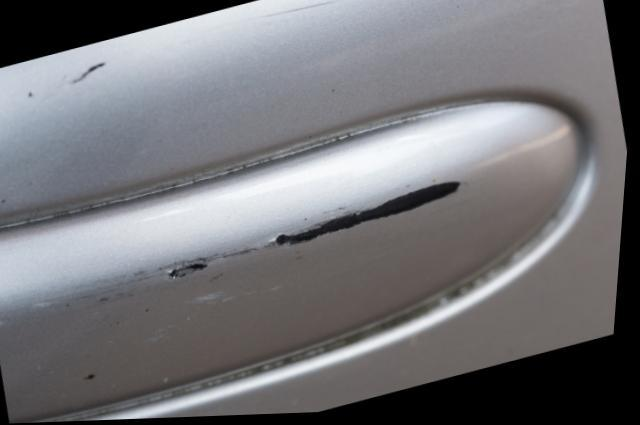scratch: (0, 173, 476, 331)
